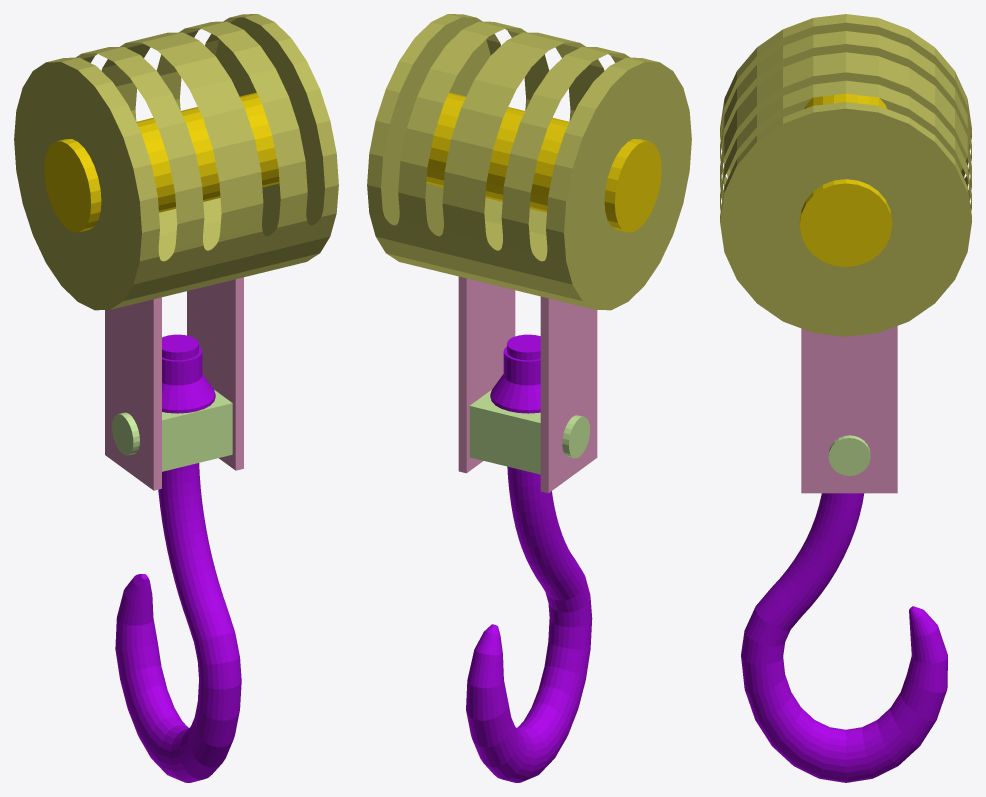
File: cranehook.dae
The picture shows the model from 3 angles, left to right: view 1: azimuth 30°, elevation 25°; view 2: azimuth 150°, elevation 25°; view 3: azimuth 270°, elevation 25°; orthographic projection.
Parts seen in each view (by area): view 1: mesh1-geometry_material0_IndexedFaceSet, mesh9-geometry_material1_IndexedFaceSet, mesh11-geometry_material2_IndexedFaceSet, mesh19-geometry_material4_IndexedFaceSet, mesh20-geometry_material4_IndexedFaceSet, mesh14-geometry_material3_IndexedFaceSet, mesh4-geometry_material1_IndexedFaceSet, mesh15-geometry_material3_IndexedFaceSet; view 2: mesh1-geometry_material0_IndexedFaceSet, mesh9-geometry_material1_IndexedFaceSet, mesh11-geometry_material2_IndexedFaceSet, mesh19-geometry_material4_IndexedFaceSet, mesh20-geometry_material4_IndexedFaceSet, mesh14-geometry_material3_IndexedFaceSet, mesh4-geometry_material1_IndexedFaceSet, mesh15-geometry_material3_IndexedFaceSet; view 3: mesh1-geometry_material0_IndexedFaceSet, mesh9-geometry_material1_IndexedFaceSet, mesh20-geometry_material4_IndexedFaceSet, mesh11-geometry_material2_IndexedFaceSet, mesh15-geometry_material3_IndexedFaceSet.
Part boxes in pixels (bbox=[...]): mesh1-geometry_material0_IndexedFaceSet: bbox=[14, 14, 338, 310]; mesh9-geometry_material1_IndexedFaceSet: bbox=[115, 334, 241, 782]; mesh11-geometry_material2_IndexedFaceSet: bbox=[44, 92, 279, 232]; mesh19-geometry_material4_IndexedFaceSet: bbox=[105, 297, 161, 490]; mesh20-geometry_material4_IndexedFaceSet: bbox=[187, 277, 243, 470]; mesh14-geometry_material3_IndexedFaceSet: bbox=[162, 390, 232, 471]; mesh4-geometry_material1_IndexedFaceSet: bbox=[162, 346, 215, 413]; mesh15-geometry_material3_IndexedFaceSet: bbox=[112, 412, 139, 455]; mesh1-geometry_material0_IndexedFaceSet: bbox=[367, 14, 691, 310]; mesh9-geometry_material1_IndexedFaceSet: bbox=[466, 334, 592, 782]; mesh11-geometry_material2_IndexedFaceSet: bbox=[426, 92, 661, 232]; mesh19-geometry_material4_IndexedFaceSet: bbox=[540, 296, 597, 493]; mesh20-geometry_material4_IndexedFaceSet: bbox=[458, 276, 515, 473]; mesh14-geometry_material3_IndexedFaceSet: bbox=[469, 390, 540, 474]; mesh4-geometry_material1_IndexedFaceSet: bbox=[490, 346, 540, 413]; mesh15-geometry_material3_IndexedFaceSet: bbox=[562, 415, 589, 458]; mesh1-geometry_material0_IndexedFaceSet: bbox=[720, 14, 971, 336]; mesh9-geometry_material1_IndexedFaceSet: bbox=[741, 493, 947, 782]; mesh20-geometry_material4_IndexedFaceSet: bbox=[801, 326, 897, 493]; mesh11-geometry_material2_IndexedFaceSet: bbox=[799, 93, 892, 266]; mesh15-geometry_material3_IndexedFaceSet: bbox=[828, 435, 870, 475].
Bounding box in the file's own units: 0.8781 × 2.84 × 0.9.
